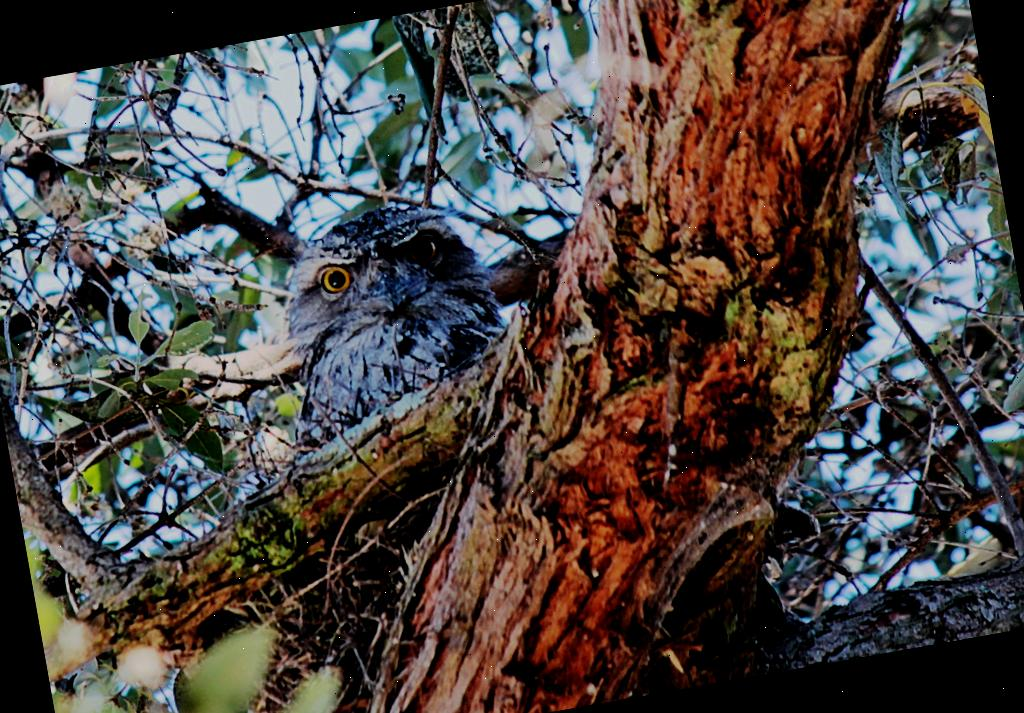Owl: (232, 182, 546, 489)
